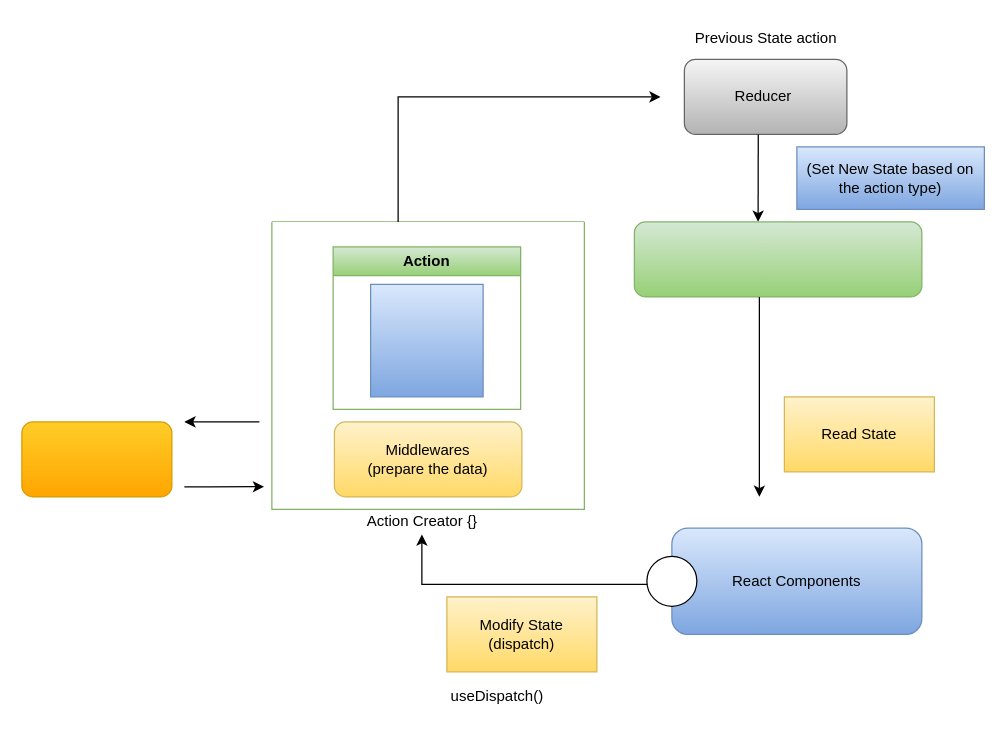
This 1006x736 diagram has some shape labels left out. The centre of each missing label's shape, as x and y in pixels:
"async call (API)" belongs at [96,459].
"Store (Global State)" belongs at [777,259].
"{ type: ... payload:data }" belongs at [426,340].
